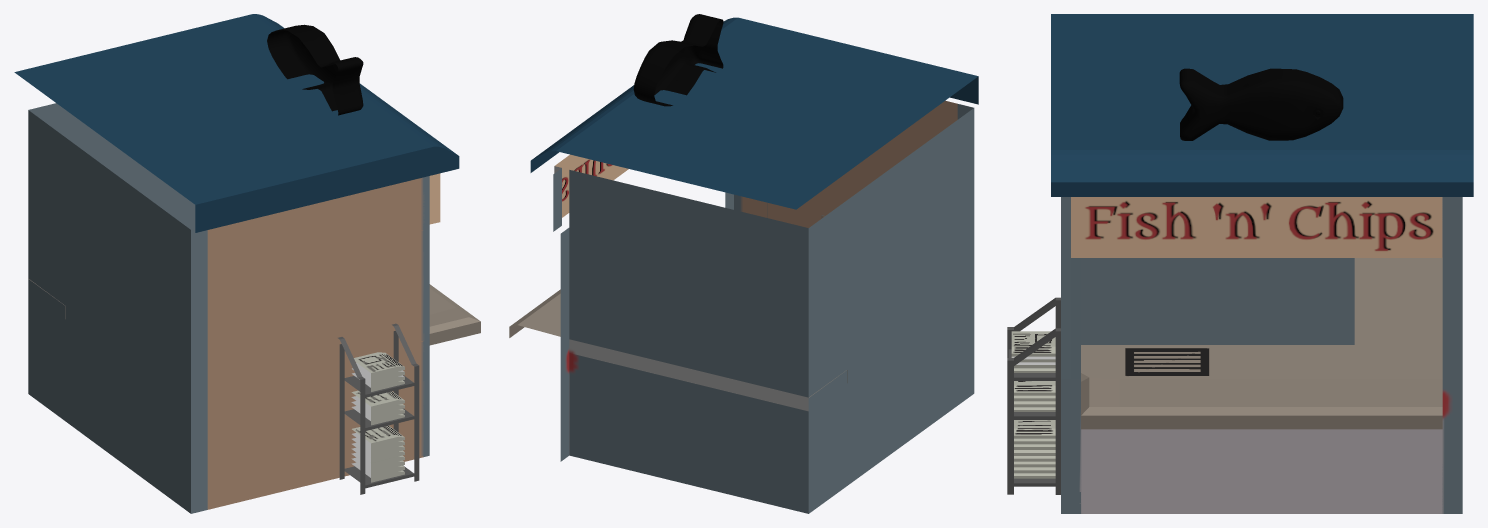
The model's file is 1lvl_fish_n_chips.glb.
3 renders of one model, left to right at view 1: azimuth 30°, elevation 25°; view 2: azimuth 150°, elevation 25°; view 3: azimuth 270°, elevation 25°, orthographic. The views are drawn at different scales.
Parts seen in each view (by area): view 1: fischips1; view 2: fischips1; view 3: fischips1.
Boxes of the visible parts, box(x1,y1,x2,y2) form: fischips1: box(14, 14, 480, 513); fischips1: box(509, 14, 978, 513); fischips1: box(1007, 14, 1473, 513).
Bounding box in the file's own units: 1.14 × 1.32 × 1.32.
1 material, 1 textured.
